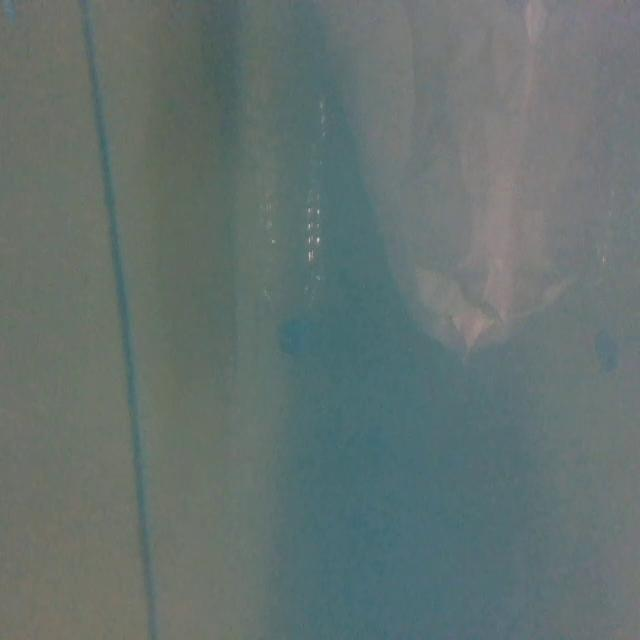plastic bags: (317, 0, 599, 387)
plastic bottle: (247, 75, 342, 376), (589, 157, 640, 406)
